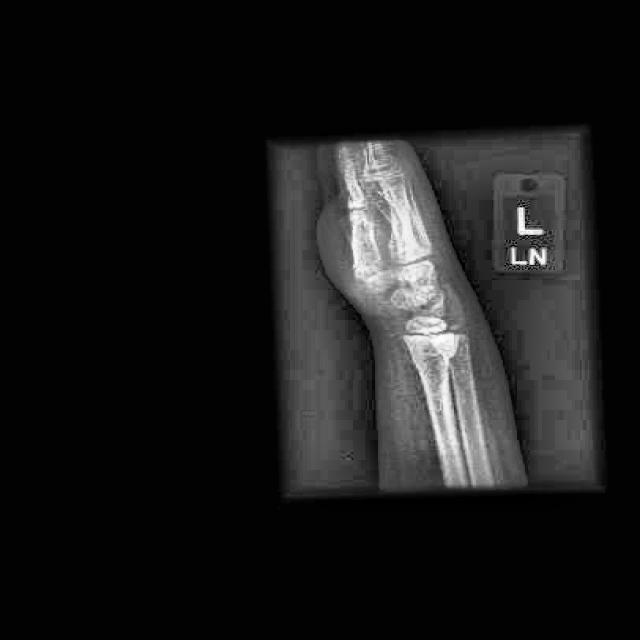fingers positive: (398, 339, 467, 366)
